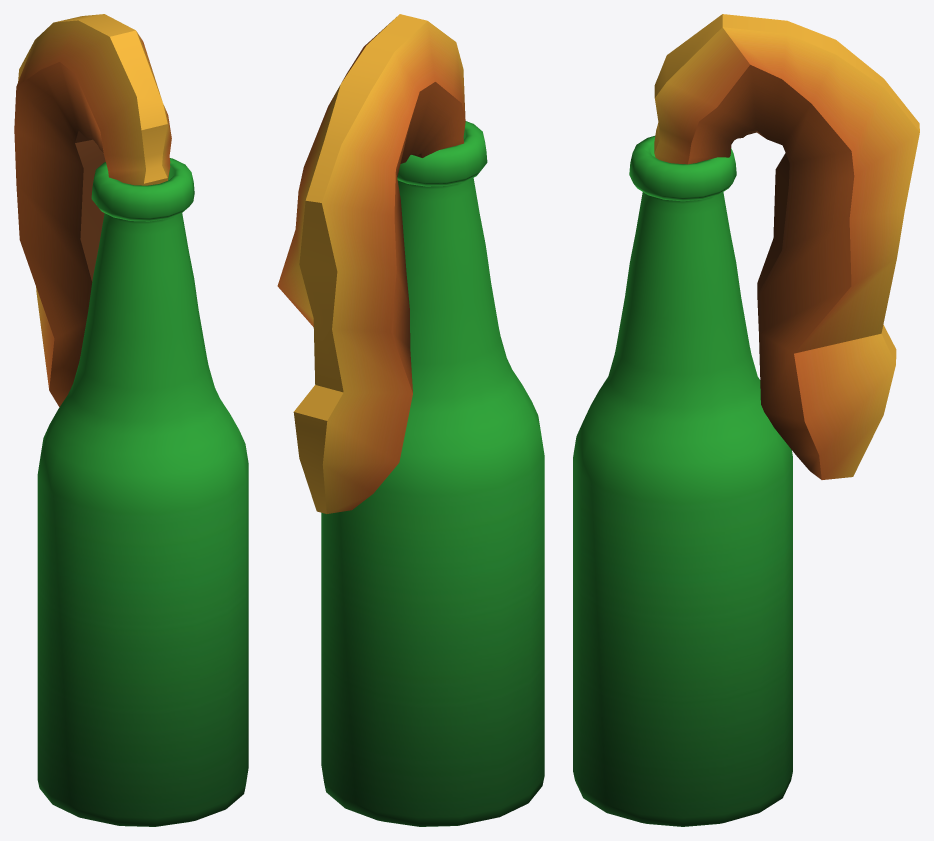
The model's file is molotov bottle.fbx.
3 views of the same model, side by side, from view 1: azimuth 30°, elevation 25°; view 2: azimuth 150°, elevation 25°; view 3: azimuth 270°, elevation 25° (orthographic). The views are drawn at different scales.
Visible parts, largest first — view 1: bottle, fabric; view 2: bottle, fabric; view 3: bottle, fabric.
Part boxes in pixels (bbox=[...]): bottle: bbox=[37, 158, 248, 826]; fabric: bbox=[14, 14, 171, 406]; bottle: bbox=[321, 121, 544, 826]; fabric: bbox=[277, 14, 465, 513]; bottle: bbox=[573, 136, 792, 826]; fabric: bbox=[654, 14, 919, 479].
Bounding box in the file's own units: 2 × 7.68 × 3.15.
